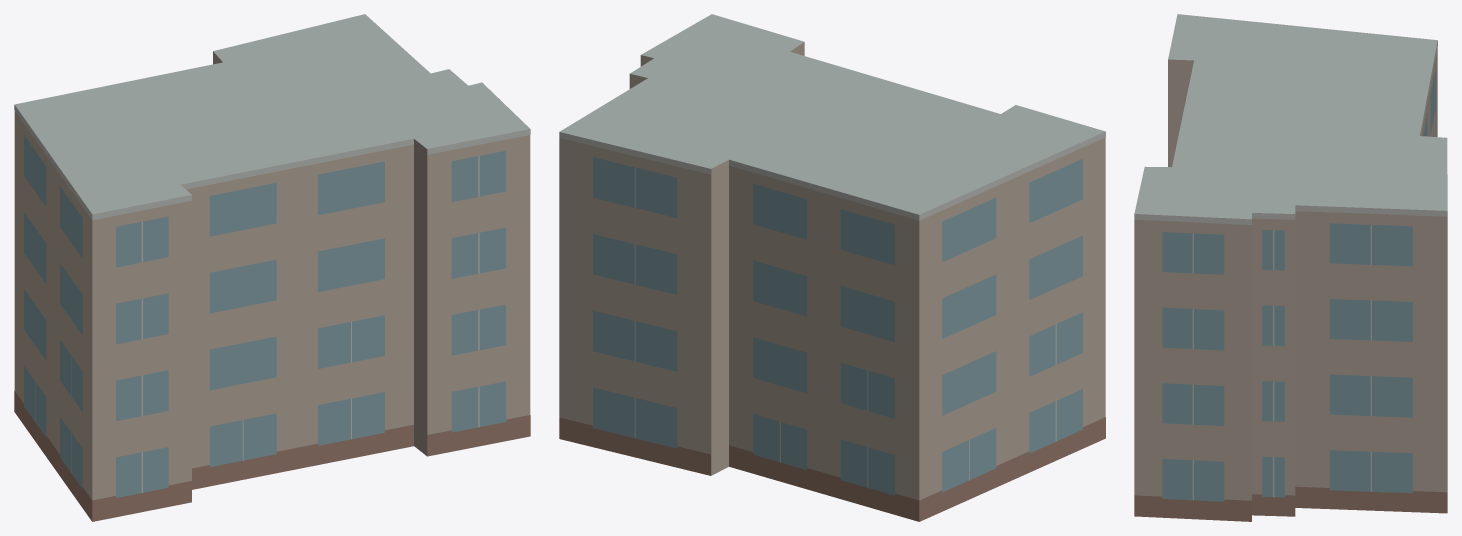
File: survey-upis-32459302.glb
The picture shows the model from 3 angles, left to right: view 1: azimuth 30°, elevation 25°; view 2: azimuth 150°, elevation 25°; view 3: azimuth 270°, elevation 25°; orthographic projection.
Visible parts, largest first — view 1: survey-upis-32459302.tmp; view 2: survey-upis-32459302.tmp; view 3: survey-upis-32459302.tmp.
Boxes of the visible parts, bbox=[...] form: survey-upis-32459302.tmp: bbox=[14, 14, 530, 521]; survey-upis-32459302.tmp: bbox=[559, 14, 1105, 521]; survey-upis-32459302.tmp: bbox=[1134, 14, 1447, 521].
Bounding box in the file's own units: 18.62 × 12.78 × 12.
